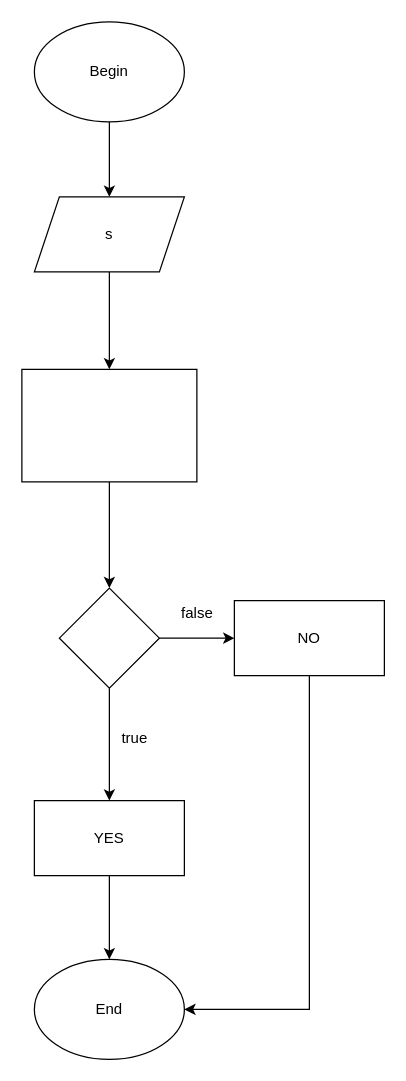
The diagram is 406 pixels wide and 1081 high, and some of its shapes have lost their labels. Here are the shapes that lost their labels. From the top down, the centre of each, then its label:
the point at 109,425: n = s.size() a = s[0] - '0' b = s[4] - '0' c = s[n-1]
the point at 108,637: a + b = c
